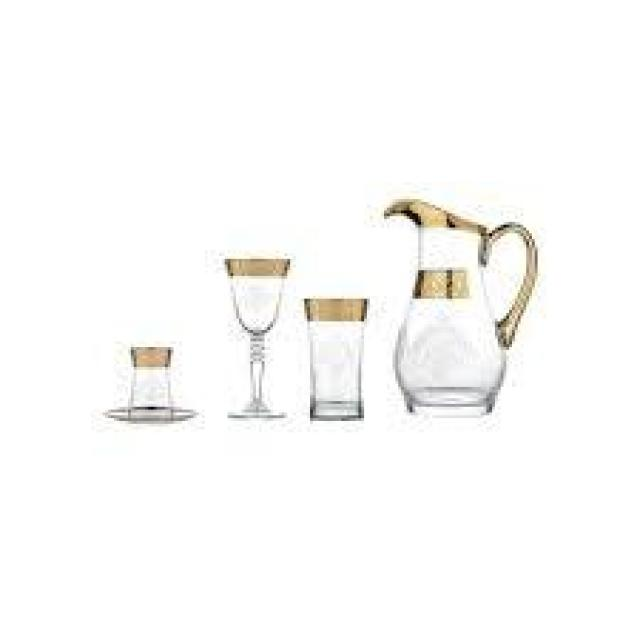non-organic waste: (383, 198, 539, 420), (219, 255, 293, 422), (303, 294, 371, 426), (102, 343, 196, 425)
